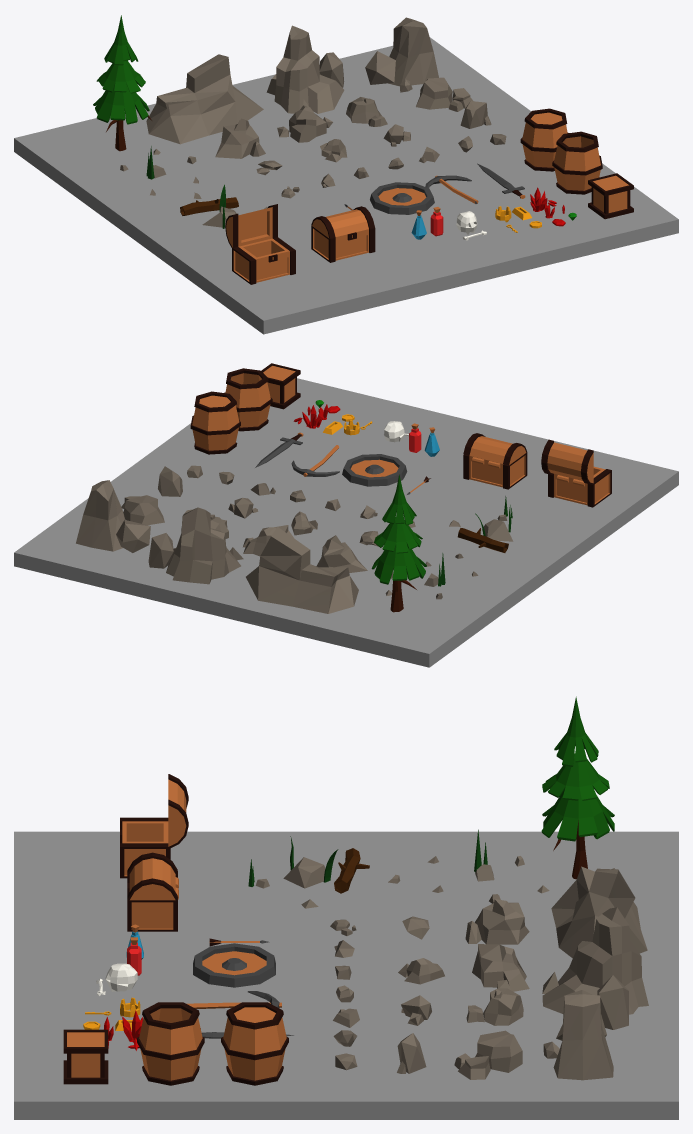
File: props.FBX
3 views of the same model, one above another, from view 1: azimuth 30°, elevation 25°; view 2: azimuth 150°, elevation 25°; view 3: azimuth 270°, elevation 25° (orthographic). The views are drawn at different scales.
Visible parts, largest first — view 1: Ground, Stone_1, Stone_2, Tree_Fir, Stone_3, Chest_Closed, Barrel_Open, Chest_Open, Barrel_Closed, Shield, Chest_Open_Cap, Box (+7 smaller); view 2: Ground, Stone_1, Stone_2, Tree_Fir, Stone_3, Chest_Closed, Barrel_Closed, Barrel_Open, Shield, Chest_Open_Cap, Chest_Open, Rocks_and_grass_2 (+5 smaller); view 3: Ground, Stone_2, Tree_Fir, Stone_1, Barrel_Closed, Barrel_Open, Stone_3, Chest_Closed, Shield, Box, Rocks_and_grass_2, Stone_7 (+10 smaller).
Boxes of the visible parts, x1,y1,x2,y2 form: Ground: [14, 37, 678, 334]; Stone_1: [146, 54, 263, 144]; Stone_2: [266, 25, 344, 113]; Tree_Fir: [93, 15, 151, 151]; Stone_3: [365, 17, 438, 92]; Chest_Closed: [311, 206, 375, 262]; Barrel_Open: [552, 131, 602, 194]; Chest_Open: [232, 237, 295, 284]; Barrel_Closed: [520, 108, 568, 171]; Shield: [370, 182, 434, 214]; Chest_Open_Cap: [225, 204, 277, 247]; Box: [588, 173, 633, 219]; Ground: [14, 378, 678, 667]; Stone_1: [246, 527, 358, 613]; Stone_2: [148, 507, 243, 584]; Tree_Fir: [371, 474, 426, 612]; Stone_3: [76, 480, 150, 552]; Chest_Closed: [463, 433, 527, 489]; Barrel_Closed: [190, 391, 240, 454]; Barrel_Open: [224, 368, 272, 431]; Shield: [342, 454, 407, 486]; Chest_Open_Cap: [541, 439, 593, 484]; Chest_Open: [548, 466, 611, 507]; Rocks_and_grass_2: [449, 496, 513, 558]; Ground: [14, 831, 678, 1119]; Stone_2: [542, 907, 648, 1029]; Tree_Fir: [541, 696, 614, 879]; Stone_1: [551, 866, 647, 958]; Barrel_Closed: [221, 1002, 288, 1085]; Barrel_Open: [137, 1002, 204, 1085]; Stone_3: [543, 990, 613, 1080]; Chest_Closed: [127, 852, 178, 931]; Shield: [193, 943, 275, 987]; Box: [63, 1029, 108, 1084]; Rocks_and_grass_2: [248, 836, 400, 908]; Stone_7: [454, 1030, 522, 1079].
Size of the model in its own units: 2182 by 747 by 2270.
